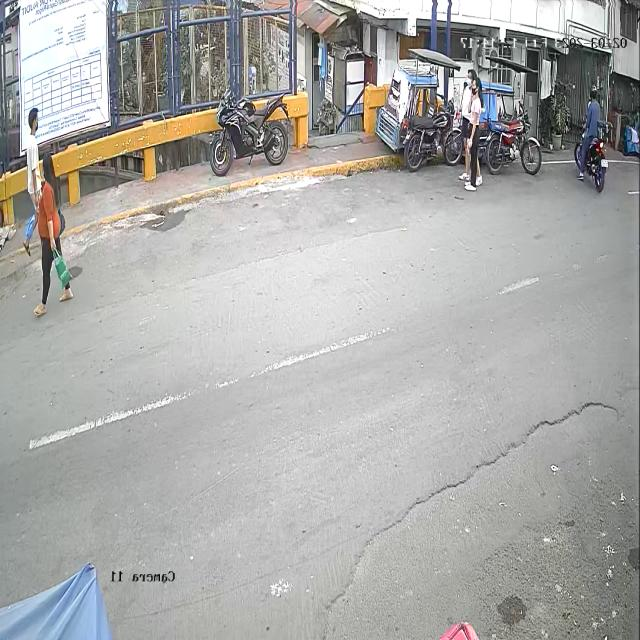human: (34, 154, 74, 317), (23, 109, 44, 258)
trash: (23, 199, 37, 241)
